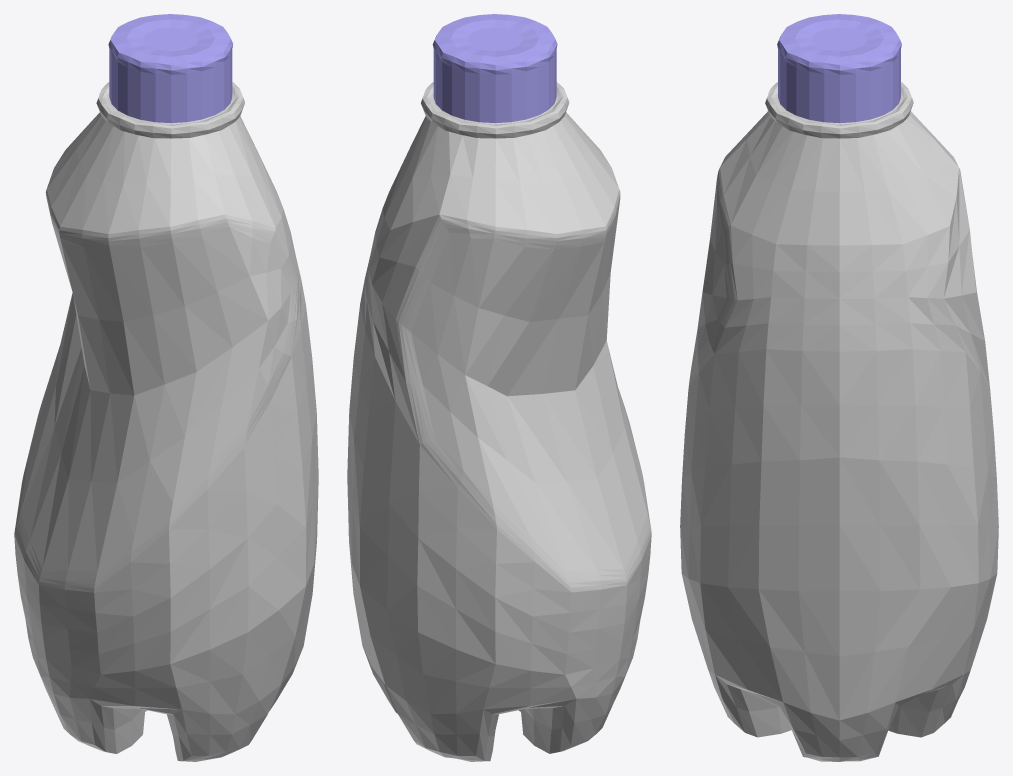
The model's file is pet 2.fbx.
3 views of the same model, side by side, from view 1: azimuth 30°, elevation 25°; view 2: azimuth 150°, elevation 25°; view 3: azimuth 270°, elevation 25° (orthographic).
Parts seen in each view (by area): view 1: Cylinder, Cylinder_1; view 2: Cylinder, Cylinder_1; view 3: Cylinder, Cylinder_1.
Boxes of the visible parts, <box> form: Cylinder: <box>14,82,318,761</box>; Cylinder_1: <box>108,14,233,123</box>; Cylinder: <box>347,82,651,761</box>; Cylinder_1: <box>432,14,557,122</box>; Cylinder: <box>680,82,998,761</box>; Cylinder_1: <box>777,14,901,123</box>.
Size of what is drawn, in the model's own units: 611 by 1563 by 657.
